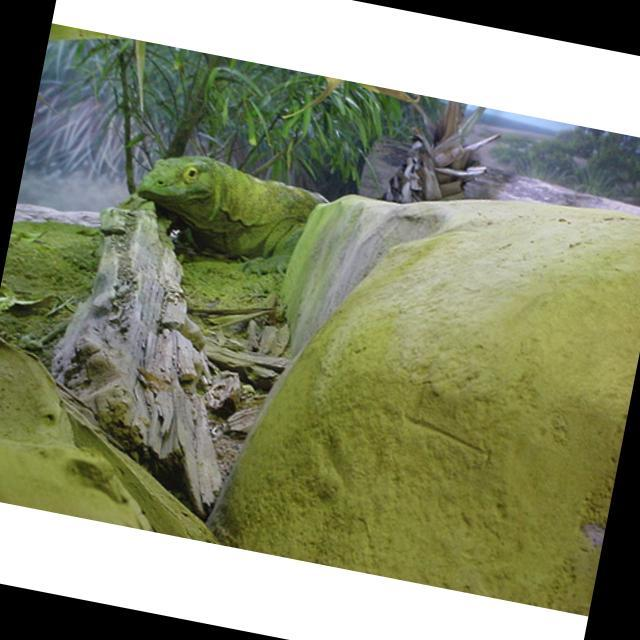KomodoDragon: (124, 144, 334, 290)
